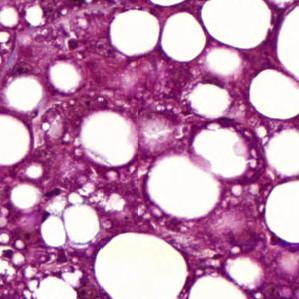steatosis: (108, 4, 161, 56), (7, 79, 47, 113)
